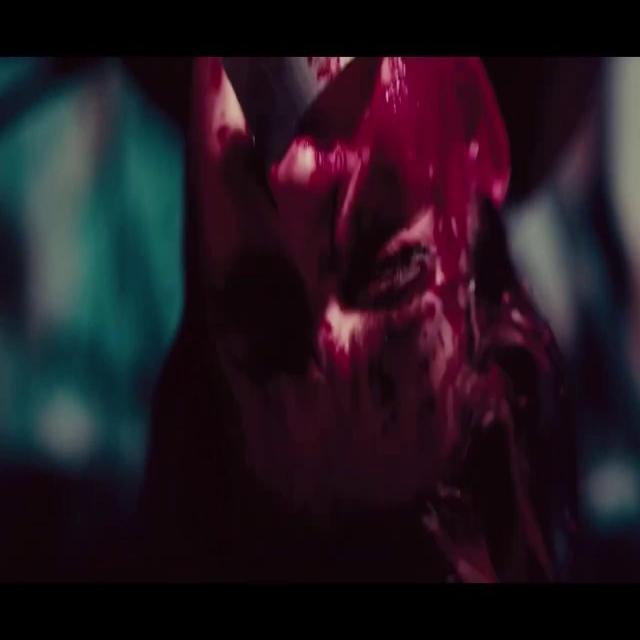flood: (307, 54, 509, 334)
